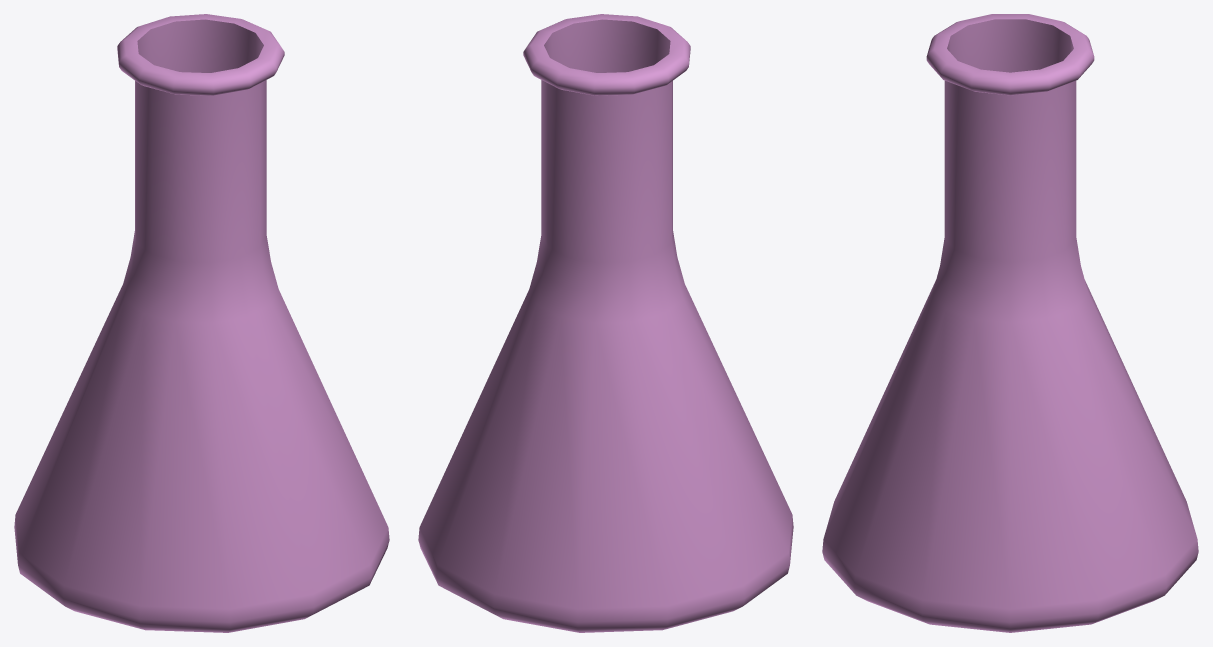
Rendered from proveta2.FBX.
3 views of the same model, side by side, from view 1: azimuth 30°, elevation 25°; view 2: azimuth 150°, elevation 25°; view 3: azimuth 270°, elevation 25° (orthographic).
Parts seen in each view (by area): view 1: proveta2_low; view 2: proveta2_low; view 3: proveta2_low.
Part boxes in pixels (x1,y1,x2,y2): proveta2_low: (14, 14, 389, 632); proveta2_low: (418, 14, 793, 632); proveta2_low: (822, 14, 1198, 632).
Bounding box in the file's own units: 6.13 × 9.3 × 6.17.
